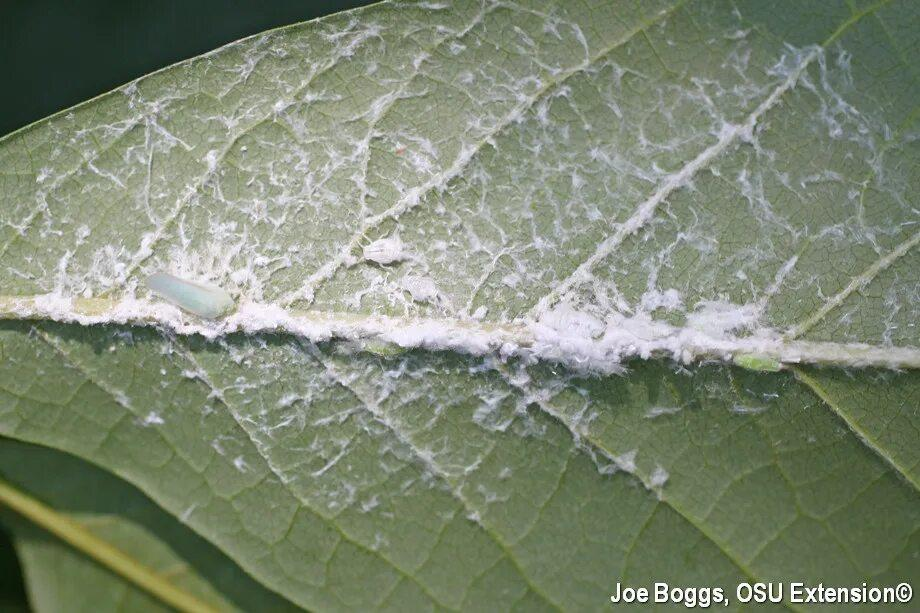pseudococcidae: (5, 1, 919, 547)
